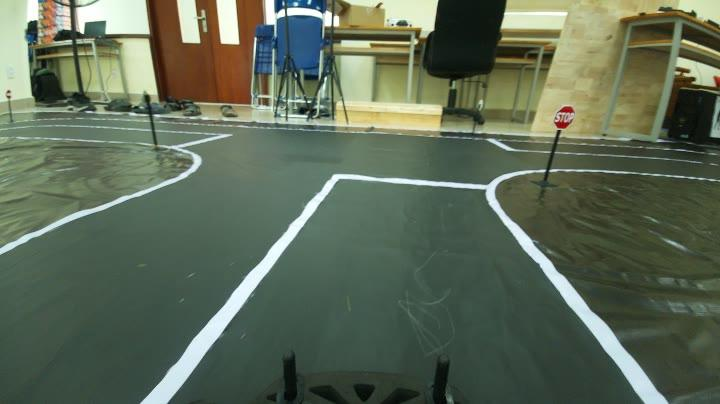stop: (552, 102, 580, 133)
